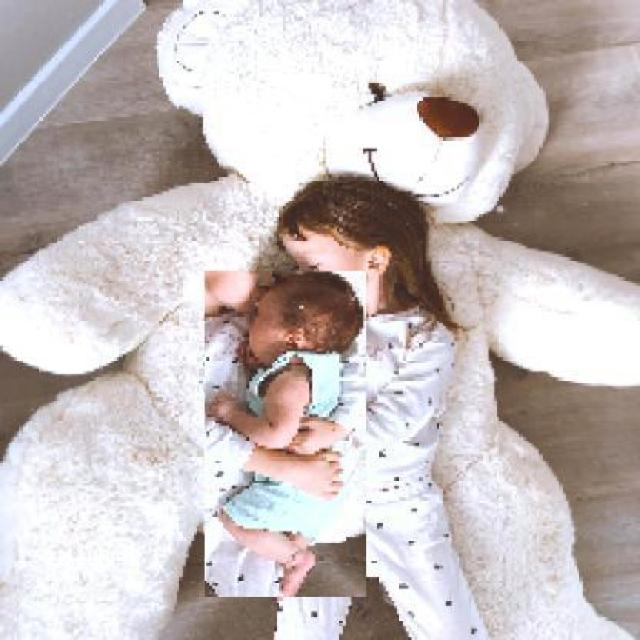child: (278, 172, 491, 638), (203, 271, 366, 598)
